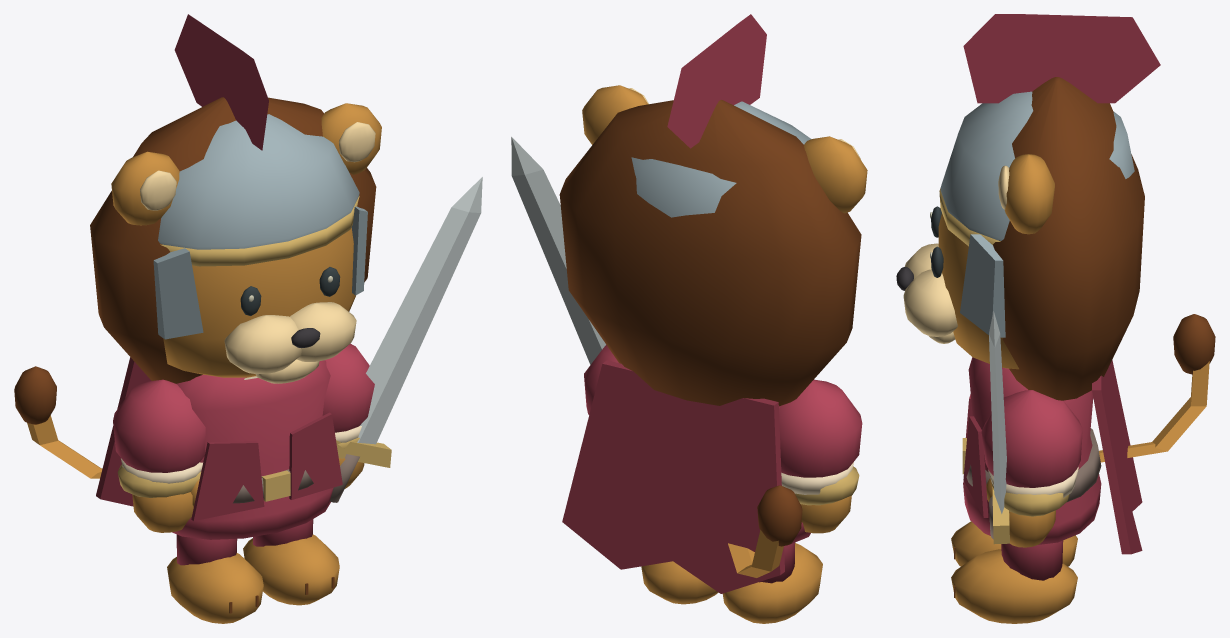
File: giant.glb
3 renders of one model, left to right at view 1: azimuth 30°, elevation 25°; view 2: azimuth 150°, elevation 25°; view 3: azimuth 270°, elevation 25°, orthographic. The views are drawn at different scales.
Parts seen in each view (by area): view 1: Regional helmet, Lion full mane, Short folded tunic, Animal cheek head, Shaped bevel sword, Puff sleeve, Roman horsehair fan, Soft animal paw, Soft animal paw.001, Coat fold, Lion muzzle, Roman cheekplate (+20 smaller); view 2: Lion full mane, Short scalloped cape, Roman horsehair fan, Puff sleeve, Shaped bevel sword, Regional helmet, Soft animal paw, Lion round ear, Lion tail tuft, Soft animal paw.001, Lion round ear.001, Curved animal tail (+4 smaller); view 3: Lion full mane, Roman horsehair fan, Regional helmet, Puff sleeve.001, Soft animal paw.001, Short folded tunic, Short scalloped cape, Roman cheekplate.001, Lion round ear.001, Animal cheek head, Lion muzzle.001, Shaped bevel sword (+12 smaller).
Boxes of the visible parts, x1,y1,x2,y2 form: Regional helmet: [158, 114, 359, 249]; Lion full mane: [90, 97, 376, 383]; Short folded tunic: [172, 360, 333, 539]; Animal cheek head: [163, 228, 355, 377]; Shaped bevel sword: [357, 177, 482, 444]; Puff sleeve: [113, 379, 205, 472]; Roman horsehair fan: [174, 14, 268, 150]; Soft animal paw: [167, 553, 263, 623]; Soft animal paw.001: [243, 534, 339, 605]; Coat fold: [191, 441, 264, 521]; Lion muzzle: [224, 315, 301, 374]; Roman cheekplate: [153, 248, 203, 339]; Lion full mane: [559, 100, 861, 406]; Short scalloped cape: [562, 360, 784, 593]; Roman horsehair fan: [667, 14, 766, 148]; Puff sleeve: [779, 379, 862, 477]; Shaped bevel sword: [511, 137, 605, 364]; Regional helmet: [631, 101, 810, 217]; Soft animal paw: [722, 543, 822, 623]; Lion round ear: [804, 136, 867, 213]; Lion tail tuft: [757, 485, 802, 546]; Soft animal paw.001: [641, 561, 718, 604]; Lion round ear.001: [582, 85, 647, 144]; Curved animal tail: [728, 529, 783, 577]; Lion full mane: [993, 77, 1144, 400]; Roman horsehair fan: [963, 14, 1160, 103]; Regional helmet: [940, 91, 1134, 240]; Puff sleeve.001: [981, 390, 1082, 487]; Soft animal paw.001: [951, 549, 1077, 623]; Short folded tunic: [963, 357, 1101, 544]; Short scalloped cape: [1092, 360, 1142, 554]; Roman cheekplate.001: [960, 234, 1005, 337]; Lion round ear.001: [1004, 154, 1054, 234]; Animal cheek head: [938, 213, 1018, 369]; Lion muzzle.001: [903, 269, 957, 336]; Shaped bevel sword: [989, 310, 1006, 513].
Size of the model in its own units: 1.77 by 2.55 by 1.27.
